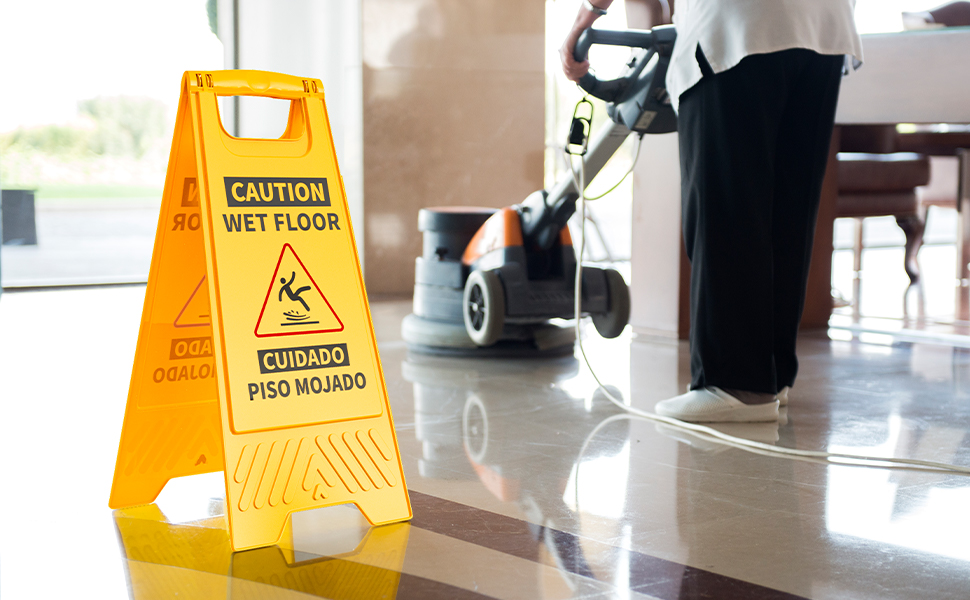wet caution sign: (110, 51, 422, 565)
